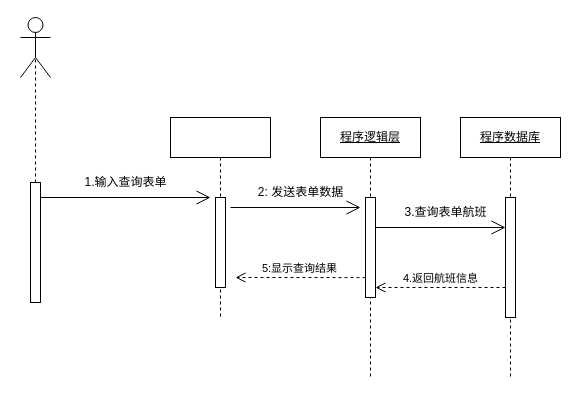
This 578x395 diagram has some shape labels left out. The box of each missing label's shape, as (x1, y1, x2, y2) in pixels:
用户界面: (170, 116, 270, 318)
采购方: (20, 16, 50, 78)
